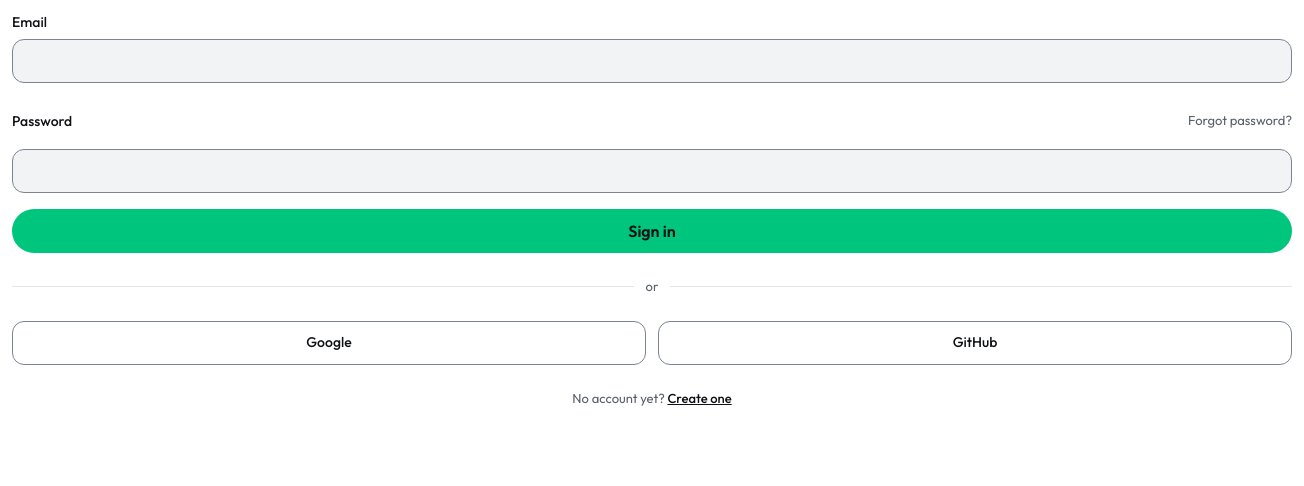
Test: LoginForm › shows "Invalid email or password" on credential failure
The image size is (1304, 486).
Type "trader@example.com" into the field labelled "Email" at (652, 61), box [12, 39, 1292, 83]
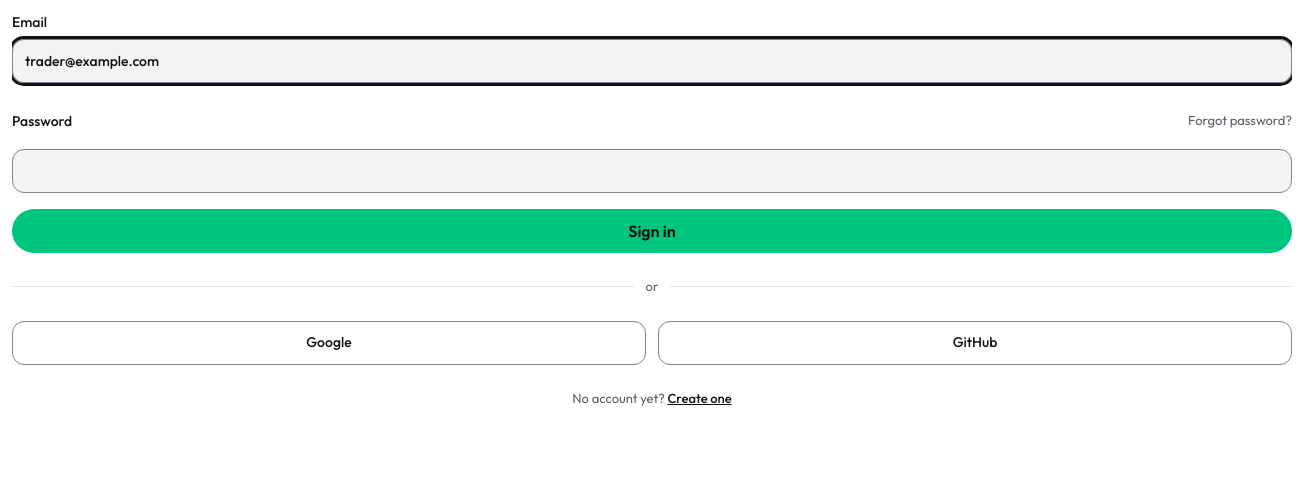
Type "wrongpassword" into the password field labelled "Password" at (652, 171), box [12, 149, 1292, 193]
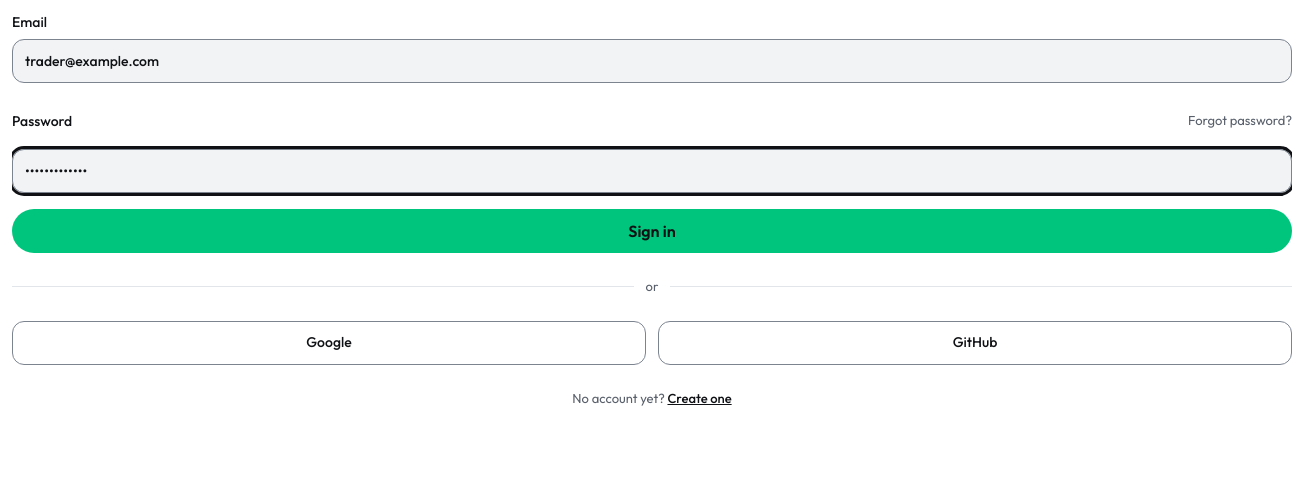
Click the button "Sign in" at (652, 231), box [12, 209, 1292, 253]
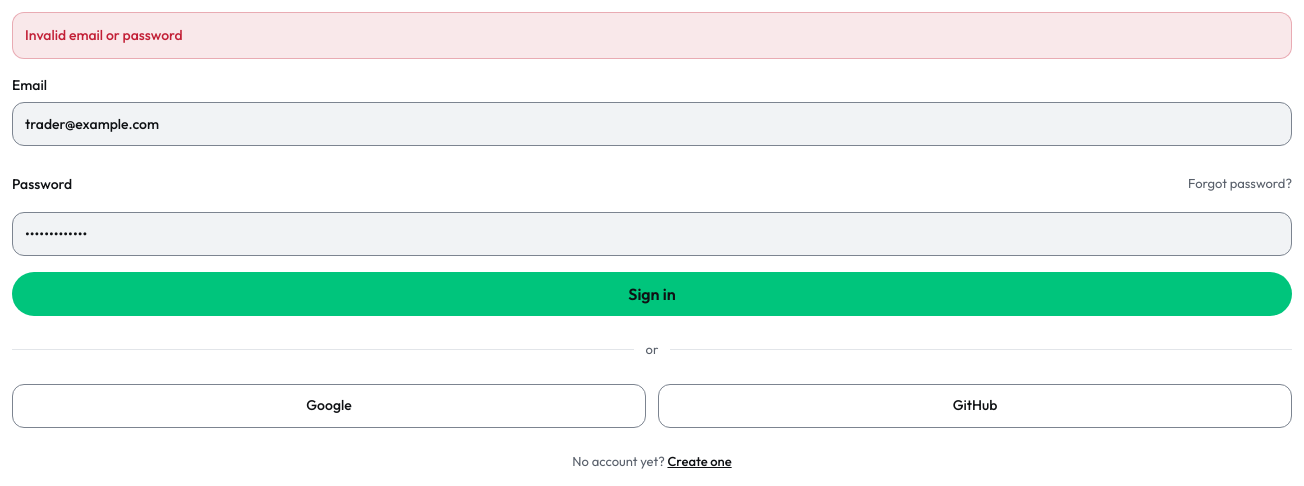
Check: the message reads "Invalid email or password", box [25, 26, 183, 44]
